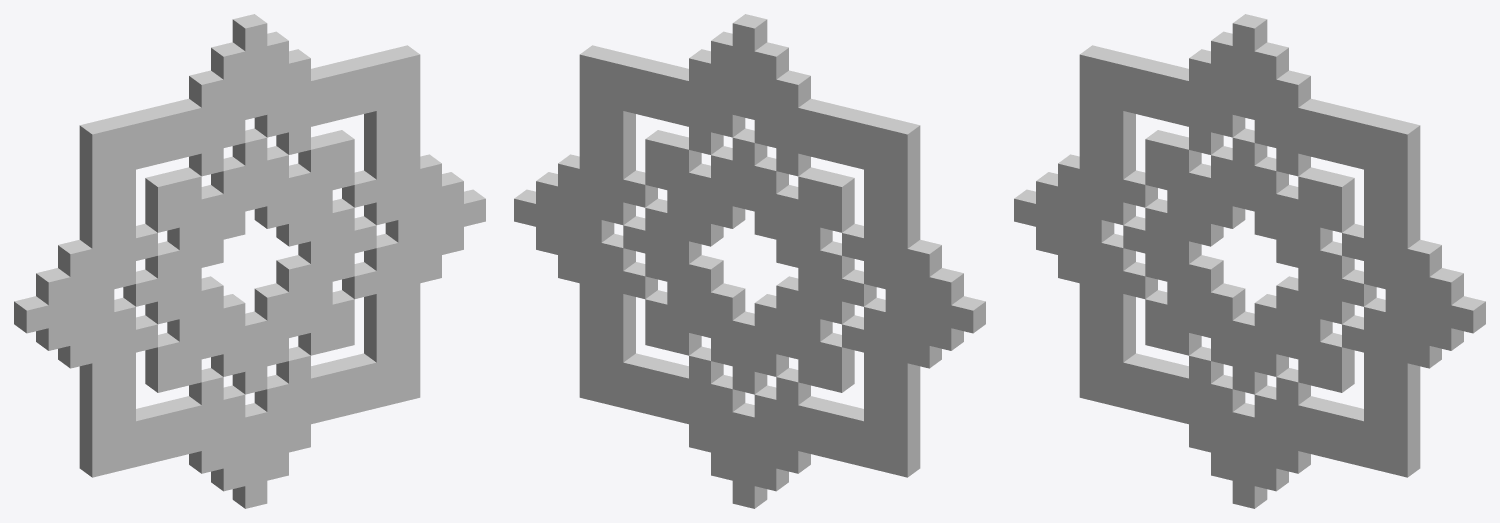
The model's file is Saw.dae.
3 renders of one model, left to right at view 1: azimuth 30°, elevation 25°; view 2: azimuth 150°, elevation 25°; view 3: azimuth 330°, elevation 25°, orthographic.
Visible parts, largest first — view 1: Shield; view 2: Shield; view 3: Shield.
Part boxes in pixels (left/top/right/bottom): Shield: left=14, top=14, right=485, bottom=508; Shield: left=514, top=14, right=985, bottom=508; Shield: left=1014, top=14, right=1485, bottom=508.
Bounding box in the file's own units: 21 × 21 × 1.
1 material, 1 textured.
